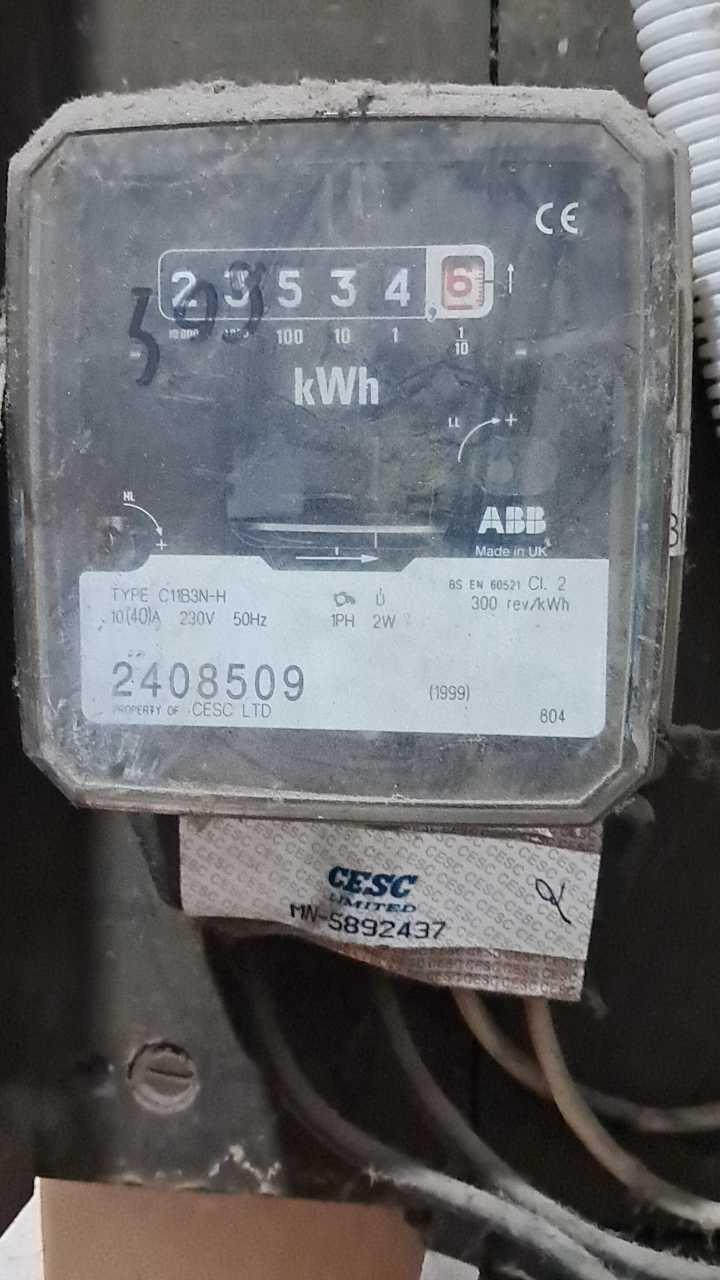meter_readings: (165, 253, 488, 314)
serial_number: (108, 661, 307, 699)
